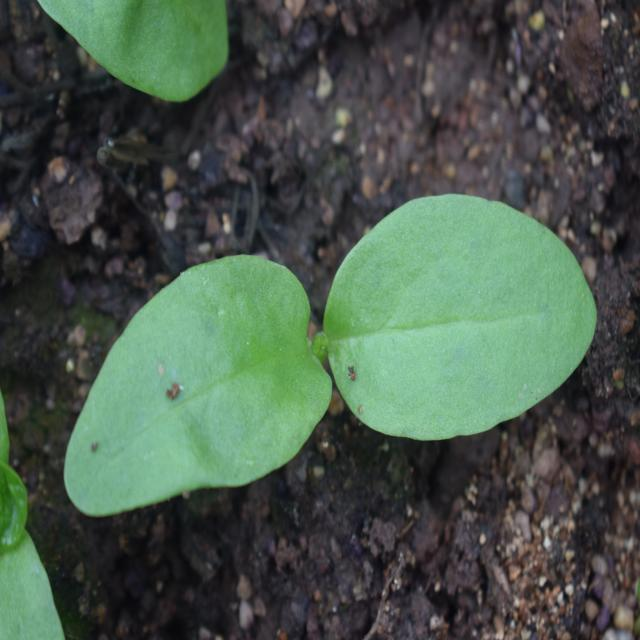Ceylon spinach: (25, 188, 601, 547)
